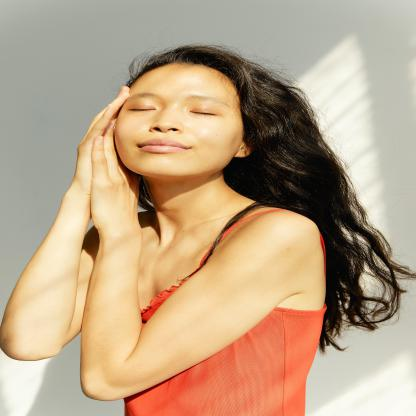Eye: (185, 104, 227, 118), (123, 101, 161, 114)
Mouth: (134, 138, 199, 156)
Nose: (146, 110, 186, 136)
